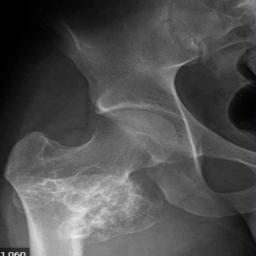cancer: (11, 173, 168, 246)
